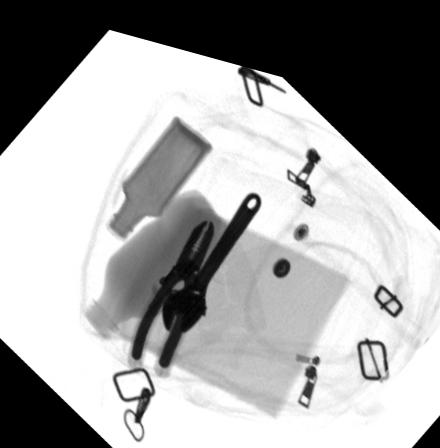Pliers: (124, 203, 216, 367)
Wrench: (160, 176, 265, 324)
